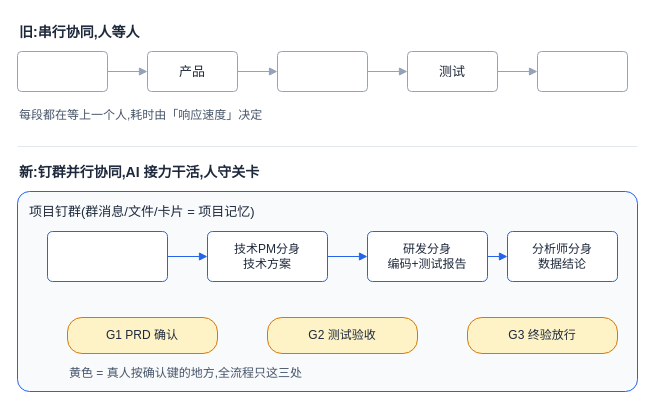
The diagram is 655 pixels wide and 409 high, and some of its shapes have lost their labels. The centre of each missing label's shape, as x and y in pixels:
"业务" goes at point (62, 71).
"产品分身 需求澄清+PRD" goes at point (107, 256).
"技术" goes at point (322, 71).
"数据" goes at point (582, 71).
